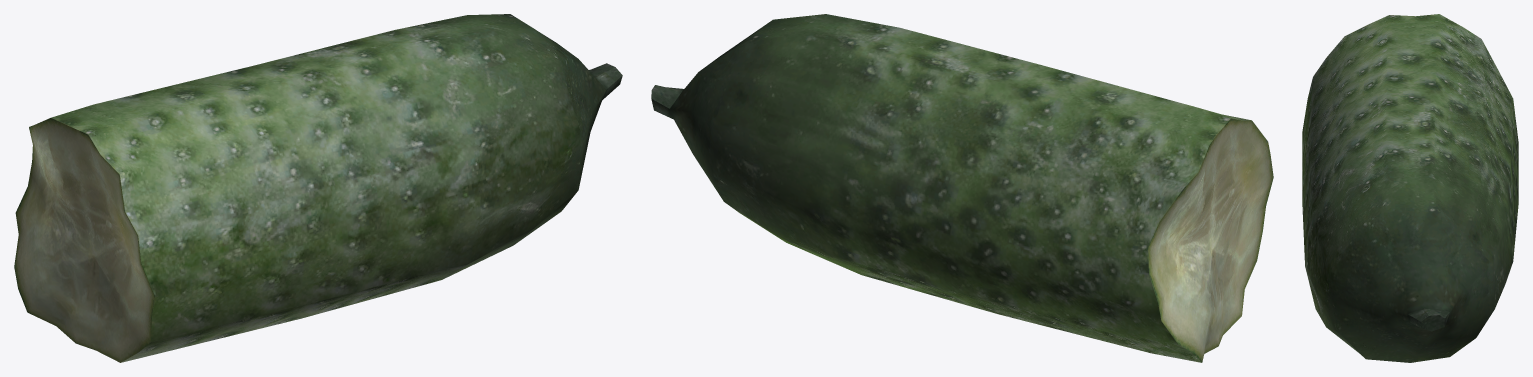
Rendered from Огурец 3 Вариант.dae.
The picture shows the model from 3 angles, left to right: view 1: azimuth 30°, elevation 25°; view 2: azimuth 150°, elevation 25°; view 3: azimuth 270°, elevation 25°; orthographic projection. The views are drawn at different scales.
Parts seen in each view (by area): view 1: SM_foo_cucumber_01_c.001; view 2: SM_foo_cucumber_01_c.001; view 3: SM_foo_cucumber_01_c.001.
Part boxes in pixels (x1,y1,x2,y2): SM_foo_cucumber_01_c.001: [14, 14, 622, 362]; SM_foo_cucumber_01_c.001: [651, 14, 1273, 362]; SM_foo_cucumber_01_c.001: [1302, 14, 1518, 362].
Size of the model in its own units: 13.31 by 5.12 by 5.19.
